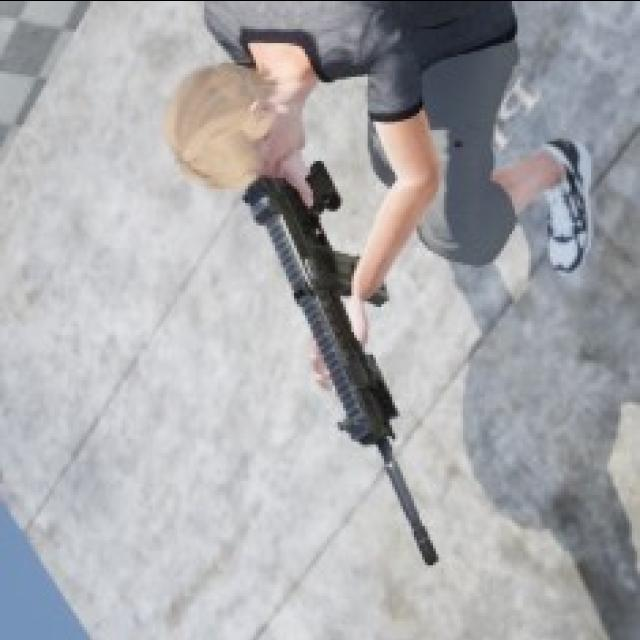rifle: (243, 173, 442, 567)
